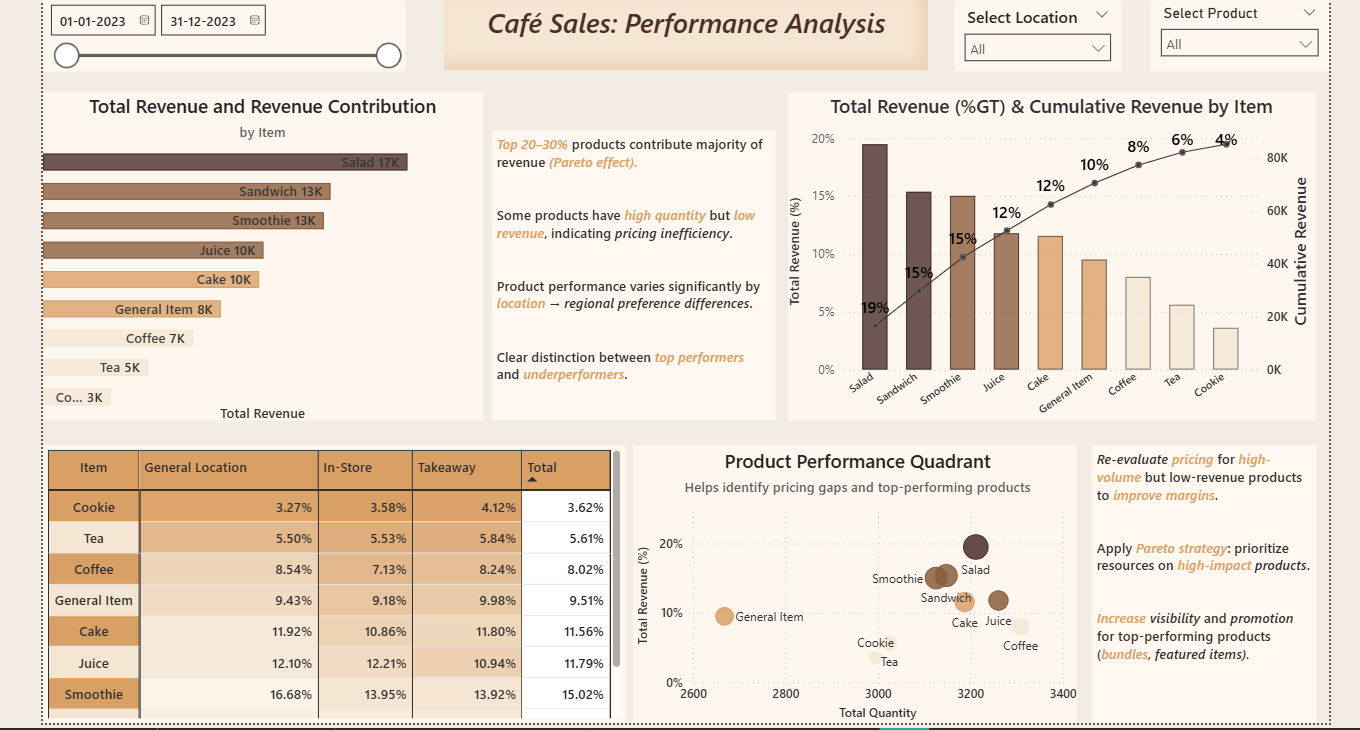

What the dashboard file says about the page in this screenshot:
{"tool":"powerbi","page":{"name":"SALES & PRODUCT ANALYSIS","canvas":[1280,720],"ordinal":1},"visuals":[{"type":"pivotTable","fields":{"Rows":["Cafe-data.Item"],"Columns":["Cafe-data.Location"],"Values":["KPI's.Total Revenue"]},"box":[0,442.7,580,277.3],"z":0},{"type":"lineClusteredColumnComboChart","title":"Total Revenue (%GT) & Cumulative Revenue by Item","fields":{"Category":["Cafe-data.Item"],"Y":["KPI's.Total Revenue"],"Y2":["KPI's.Cumulative Revenue"]},"box":[741.8,91.8,524.5,326.4],"z":1000},{"type":"scatterChart","title":"Product Performance Quadrant","fields":{"X":["Sum(Cafe-data.Quantity)"],"Y":["Divide(KPI's.Total Revenue, ScopedEval(KPI's.Total Revenue, []))"],"Size":["KPI's.Total Revenue"],"Category":["Cafe-data.Item"]},"box":[587.3,442.7,441.8,277.3],"z":2000},{"type":"clusteredBarChart","title":"Total Revenue and Revenue Contribution","fields":{"Category":["Cafe-data.Item"],"Y":["KPI's.Total Revenue"]},"box":[0,91.8,437.3,326.4],"z":3000},{"type":"group","id":"g1","title":"Group 1","box":[0,0,1072.7,70.9],"z":4000},{"type":"slicer","fields":{"Values":["Cafe-data.Item"]},"box":[1102.7,0,177.3,70.9],"z":5000},{"type":"textbox","box":[446.6,129.4,282.4,288.6],"z":6000},{"type":"textbox","box":[1043.7,442.8,223.9,277.4],"z":6001},{"type":"slicer","fields":{"Values":["Date Table.Date"]},"box":[0,0,360.9,71.4],"z":9000,"group":"g1"},{"type":"slicer","fields":{"Values":["Cafe-data.Location"]},"box":[907,0,166,71.4],"z":10000,"group":"g1"},{"type":"textbox","box":[399.2,0,481.6,70],"z":12000,"group":"g1"}]}

Visuals, with their boxes on the page's 1280x720 design canvas (x1, y1, x2, y2). These are canvas units, not pixel positions in the 1360x730 screenshot, which may show the page scaled, cropped or inside an application window:
pivotTable - Cafe-data.Item x Cafe-data.Location: 0:443:580:720
"Total Revenue (%GT) & Cumulative Revenue by Item" lineClusteredColumnComboChart: 742:92:1266:418
"Product Performance Quadrant" scatterChart: 587:443:1029:720
"Total Revenue and Revenue Contribution" clusteredBarChart: 0:92:437:418
"Group 1" group: 0:0:1073:71
slicer - Cafe-data.Item: 1103:0:1280:71
textbox: 447:129:729:418
textbox: 1044:443:1268:720
slicer - Date Table.Date: 0:0:361:71
slicer - Cafe-data.Location: 907:0:1073:71
textbox: 399:0:881:70
